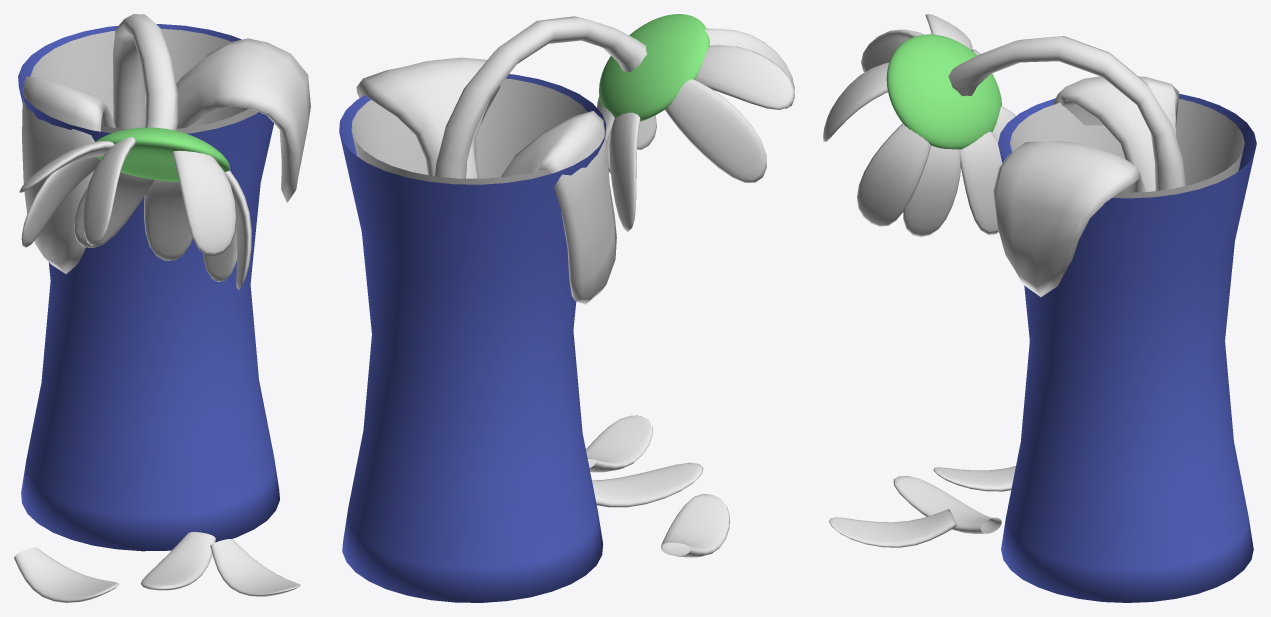
Rendered from Flower_Dead.fbx.
The picture shows the model from 3 angles, left to right: view 1: azimuth 30°, elevation 25°; view 2: azimuth 150°, elevation 25°; view 3: azimuth 270°, elevation 25°; orthographic projection. The views are drawn at different scales.
Visible parts, largest first — view 1: FlowerVase_Dead, FlowerHead_Dead, FlowerLeafs_Dead, FlowerNeck_Dead; view 2: FlowerVase_Dead, FlowerHead_Dead, FlowerLeafs_Dead, FlowerNeck_Dead; view 3: FlowerVase_Dead, FlowerHead_Dead, FlowerLeafs_Dead, FlowerNeck_Dead.
Part boxes in pixels (x1,y1,x2,y2): FlowerVase_Dead: (18,24,279,551); FlowerHead_Dead: (14,127,300,602); FlowerLeafs_Dead: (22,38,310,273); FlowerNeck_Dead: (113,14,178,130); FlowerVase_Dead: (339,74,606,602); FlowerHead_Dead: (586,14,794,557); FlowerLeafs_Dead: (356,57,616,304); FlowerNeck_Dead: (435,16,646,178); FlowerVase_Dead: (998,93,1256,602); FlowerHead_Dead: (823,14,1015,547); FlowerLeafs_Dead: (993,76,1179,296); FlowerNeck_Dead: (948,36,1185,190).
Bounding box in the file's own units: 0.1739 × 0.2403 × 0.1873.
